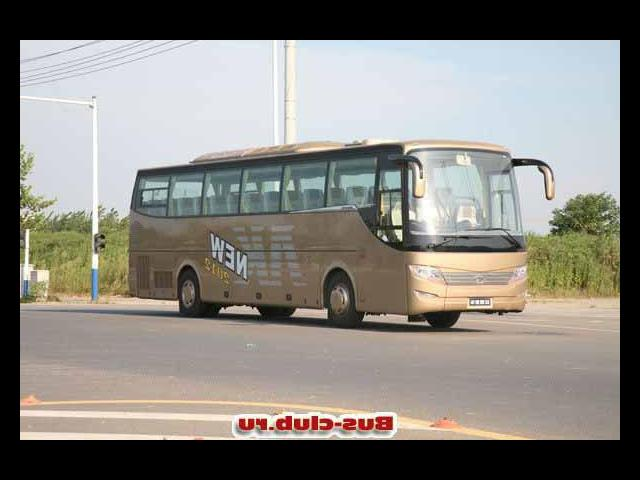bus: (123, 139, 560, 334)
